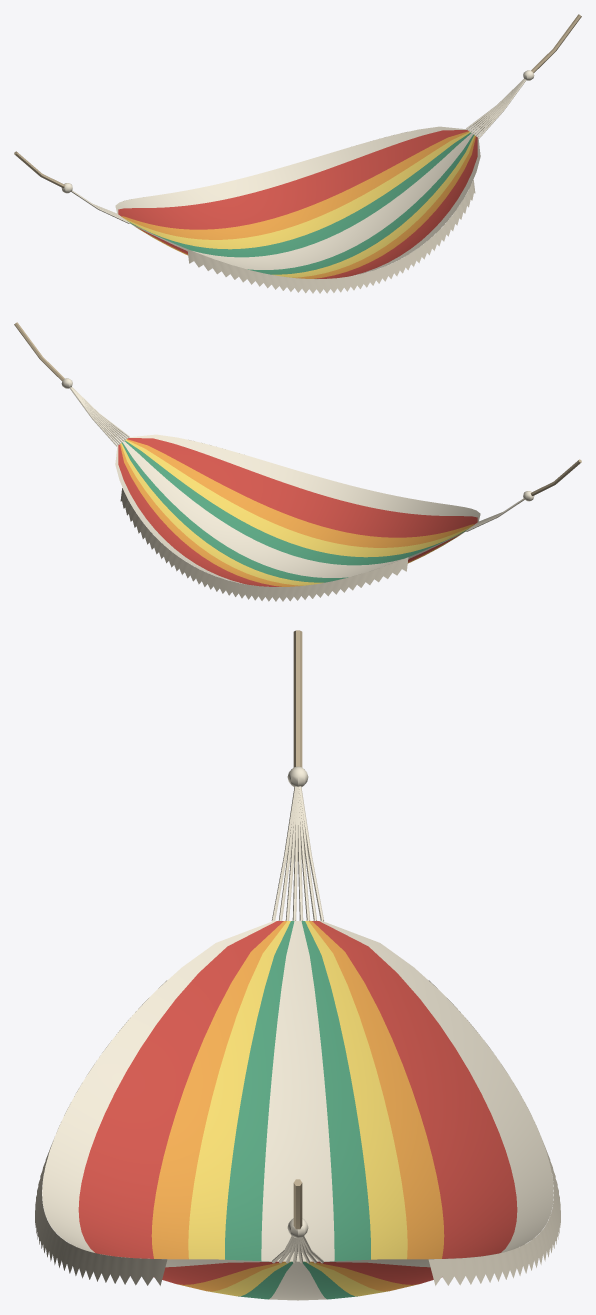
Rendered from rede.glb.
3 views of the same model, one above another, from view 1: azimuth 30°, elevation 25°; view 2: azimuth 150°, elevation 25°; view 3: azimuth 270°, elevation 25° (orthographic). The views are drawn at different scales.
Visible parts, largest first — view 1: rede; view 2: rede; view 3: rede.
Part boxes in pixels (bbox=[...]): rede: bbox=[14, 14, 581, 293]; rede: bbox=[14, 322, 581, 601]; rede: bbox=[35, 630, 560, 1300].
Size of the model in its own units: 3.74 by 1.11 by 1.5.
